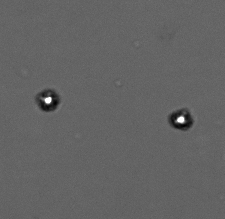Living Cell: (170, 108, 193, 131), (37, 89, 59, 112)
